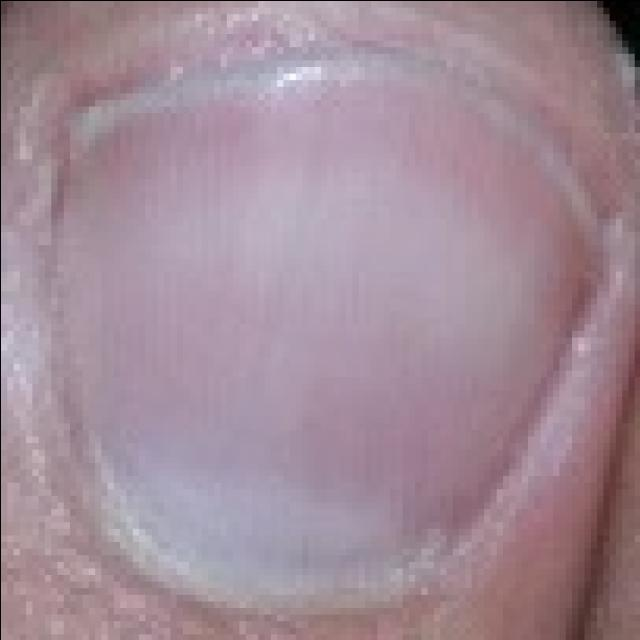Nail: (56, 56, 601, 596)
